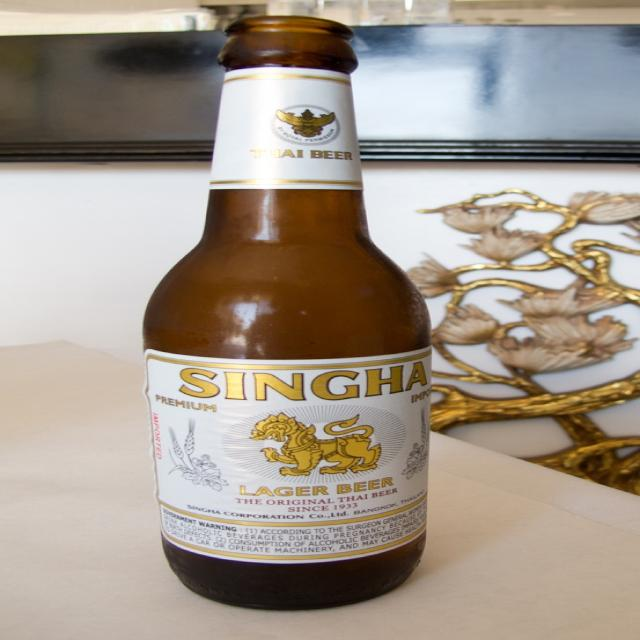singha: (146, 353, 433, 528)
